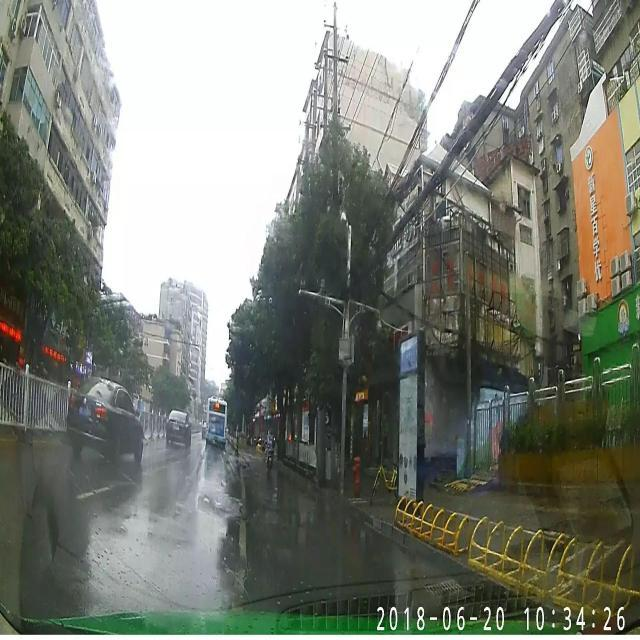car: (65, 374, 144, 464), (165, 408, 193, 447)
